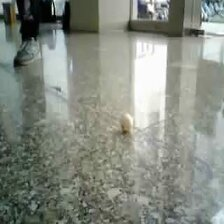w: (120, 114, 134, 131)
